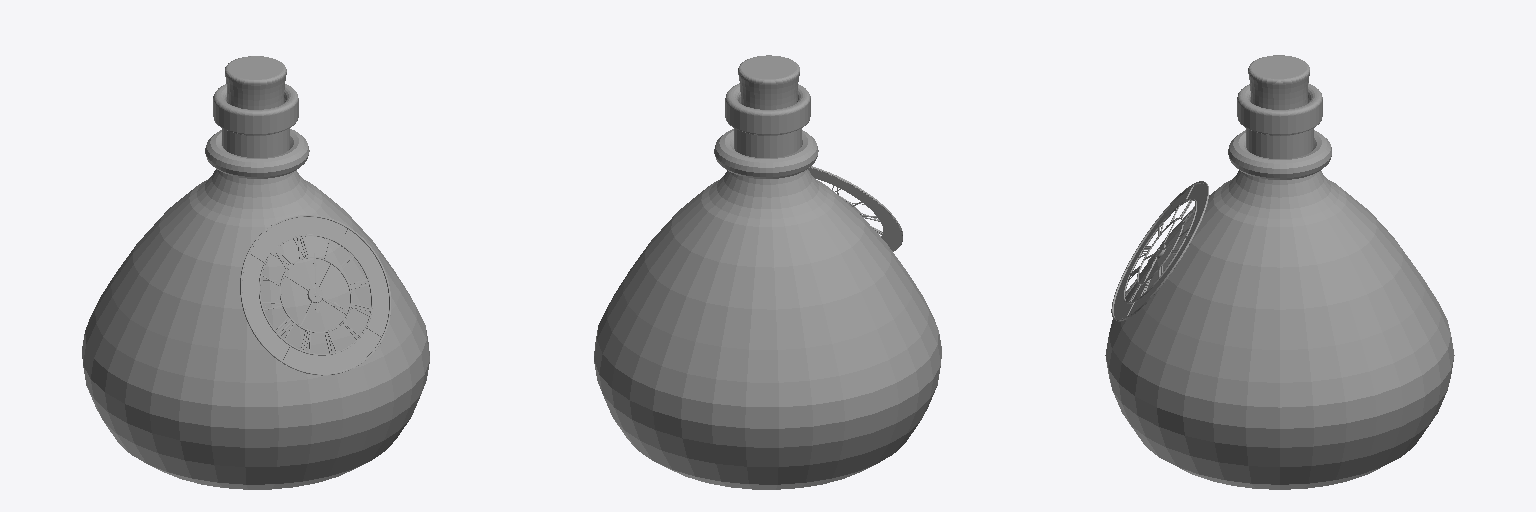
Rendered from Slow_Potion.obj.
3 renders of one model, left to right at view 1: azimuth 30°, elevation 25°; view 2: azimuth 150°, elevation 25°; view 3: azimuth 270°, elevation 25°, orthographic.
Visible parts, largest first — view 1: bottle_Sphere, default_1_5, default_1_1, cork_Cylinder, Torus; view 2: bottle_Sphere, cork_Cylinder, Torus, default_1_5; view 3: bottle_Sphere, cork_Cylinder, Torus, default_1_1, default_1_5.
Part boxes in pixels (x1,y1,x2,y2): bottle_Sphere: (82,84,429,489); default_1_5: (242,217,388,375); default_1_1: (240,215,390,374); cork_Cylinder: (225,56,286,109); Torus: (205,129,309,178); bottle_Sphere: (594,83,941,489); cork_Cylinder: (738,55,799,109); Torus: (714,129,818,178); default_1_5: (808,167,902,251); bottle_Sphere: (1105,83,1454,489); cork_Cylinder: (1248,55,1309,109); Torus: (1228,130,1331,179); default_1_1: (1111,181,1208,320); default_1_5: (1114,183,1206,321).
Bounding box in the file's own units: 2 × 2.38 × 2.